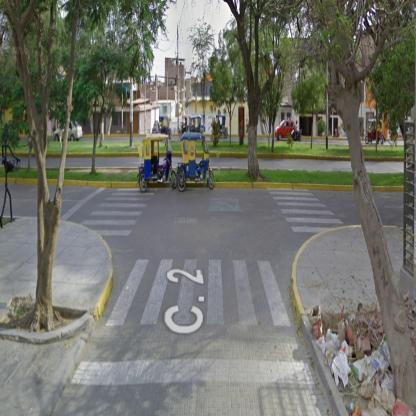Pista: (1, 183, 416, 416)
Vehiculo: (139, 133, 178, 195), (179, 131, 216, 194)
